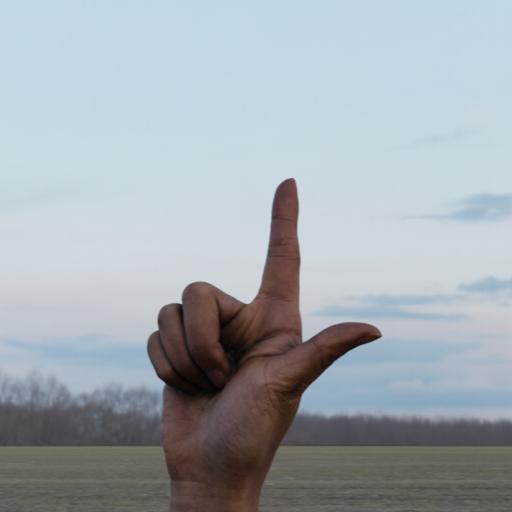L: (112, 152, 406, 458)
